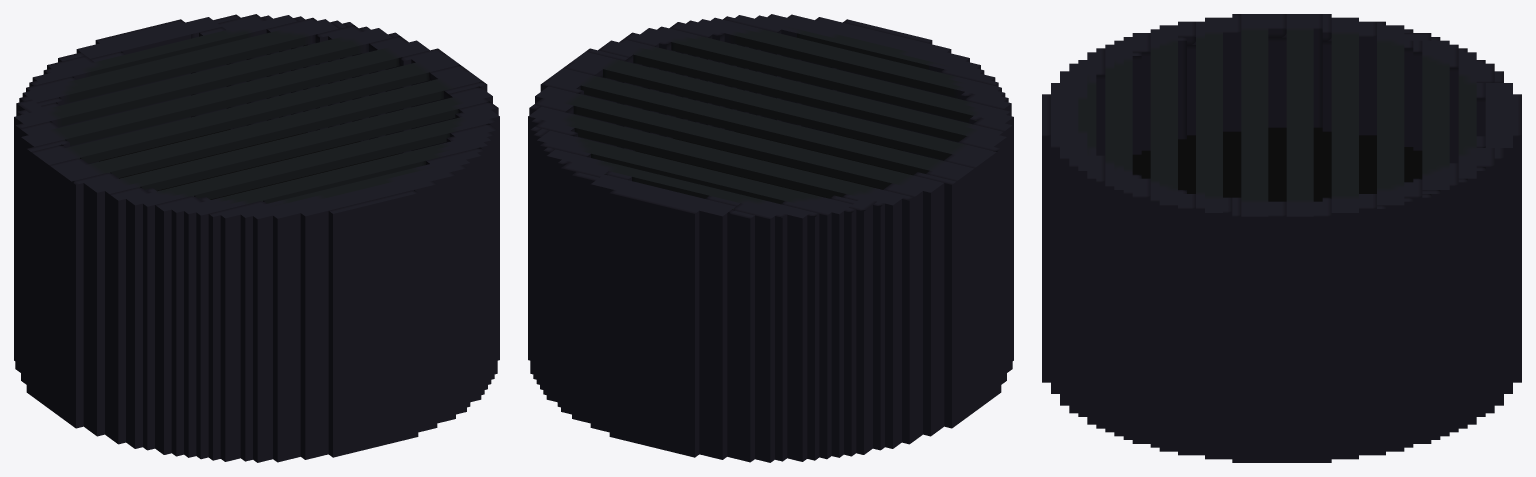
File: BIG_WLEW.dae
3 renders of one model, left to right at view 1: azimuth 30°, elevation 25°; view 2: azimuth 150°, elevation 25°; view 3: azimuth 270°, elevation 25°, orthographic.
Parts seen in each view (by area): view 1: Content; view 2: Content; view 3: Content.
Boxes of the visible parts, x1,y1,x2,y2 form: Content: (14, 14, 499, 462); Content: (528, 14, 1013, 462); Content: (1042, 14, 1521, 462).
Size of the model in its own units: 53 by 30 by 53.
1 material, 1 textured.
